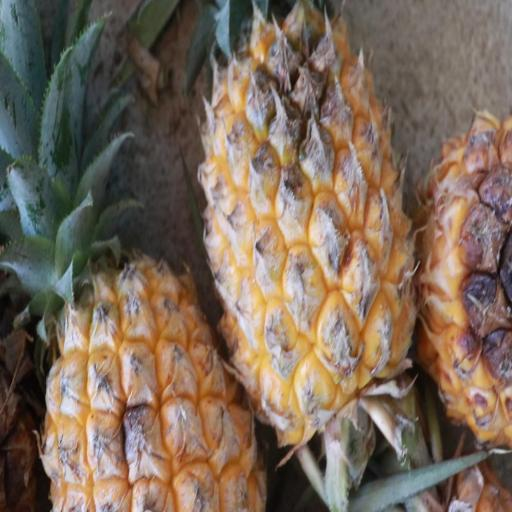Pineapple - v8 v1: (40, 100, 275, 512), (196, 2, 414, 430)
